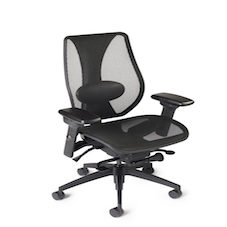chair: (50, 27, 202, 221)
